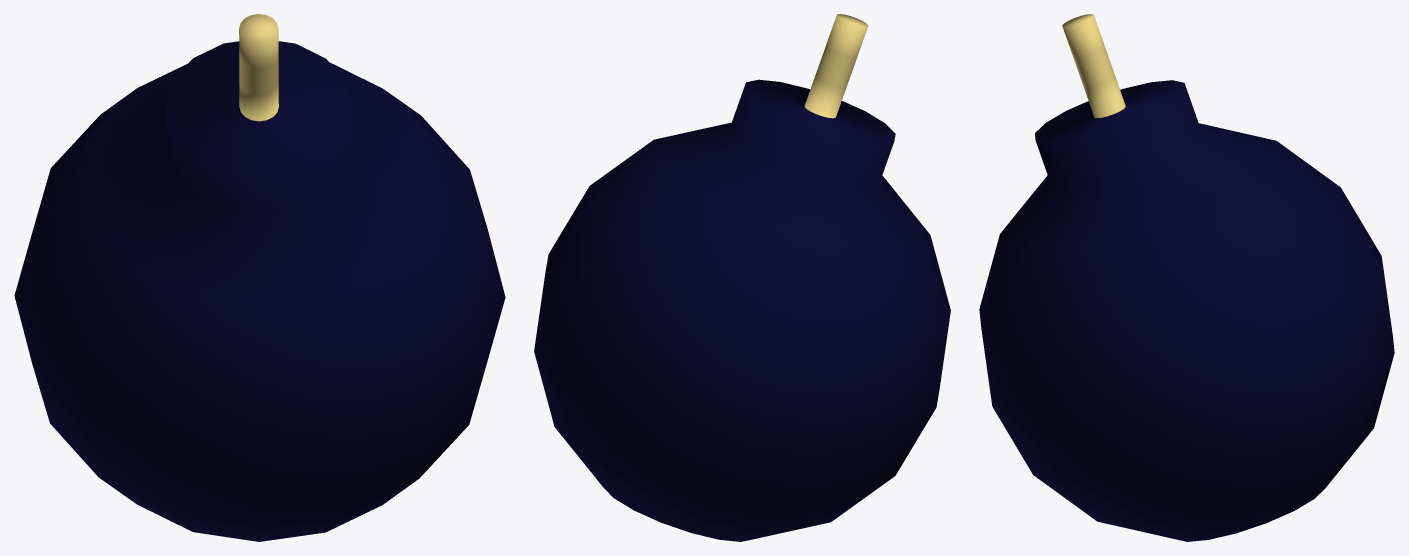
Rendered from bomb.glb.
3 views of the same model, side by side, from view 1: azimuth 30°, elevation 25°; view 2: azimuth 150°, elevation 25°; view 3: azimuth 270°, elevation 25° (orthographic). The views are drawn at different scales.
Visible parts, largest first — view 1: bomb; view 2: bomb; view 3: bomb.
Part boxes in pixels (x1,y1,x2,y2): bomb: [14, 14, 505, 541]; bomb: [534, 14, 950, 541]; bomb: [979, 14, 1394, 541].
Size of the model in its own units: 1.94 by 2.49 by 1.95.
